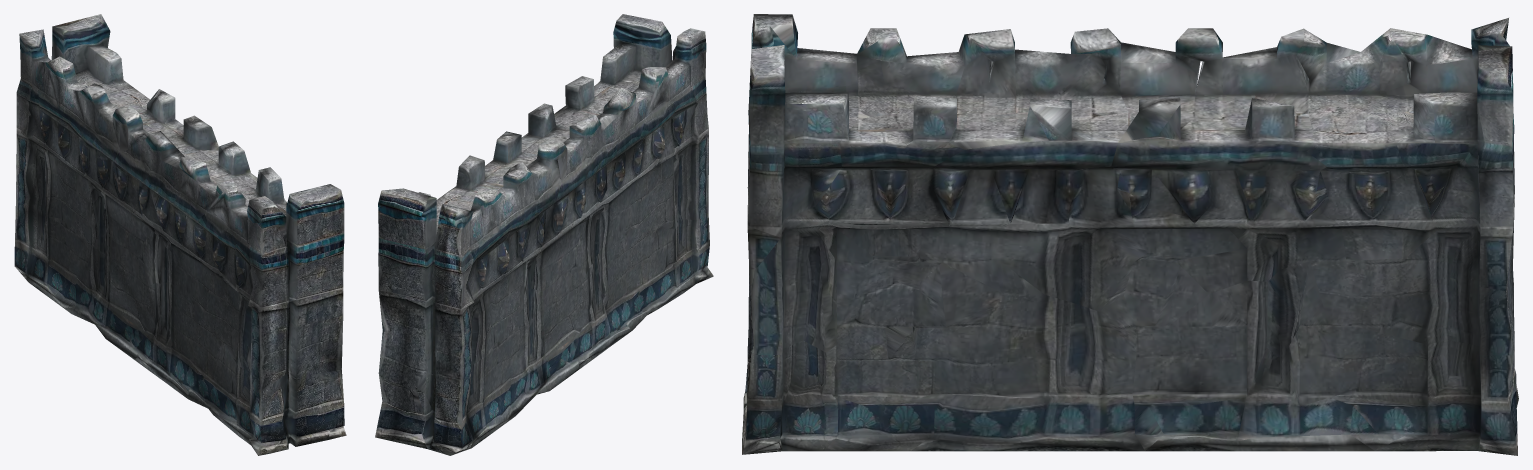
File: castle_wall_stone.glb
3 views of the same model, side by side, from view 1: azimuth 30°, elevation 25°; view 2: azimuth 150°, elevation 25°; view 3: azimuth 270°, elevation 25° (orthographic). The views are drawn at different scales.
Visible parts, largest first — view 1: tripo_node_f19b39a2-0cf7-4830-ad2a-8578c0ea9ca5; view 2: tripo_node_f19b39a2-0cf7-4830-ad2a-8578c0ea9ca5; view 3: tripo_node_f19b39a2-0cf7-4830-ad2a-8578c0ea9ca5.
Boxes of the visible parts, left/top/right/bottom form: tripo_node_f19b39a2-0cf7-4830-ad2a-8578c0ea9ca5: left=14, top=14, right=346, bottom=455; tripo_node_f19b39a2-0cf7-4830-ad2a-8578c0ea9ca5: left=375, top=14, right=713, bottom=455; tripo_node_f19b39a2-0cf7-4830-ad2a-8578c0ea9ca5: left=742, top=14, right=1518, bottom=455.
Bounding box in the file's own units: 0.2 × 0.526 × 0.9753.
Materials: 1 (1 with a texture image).
